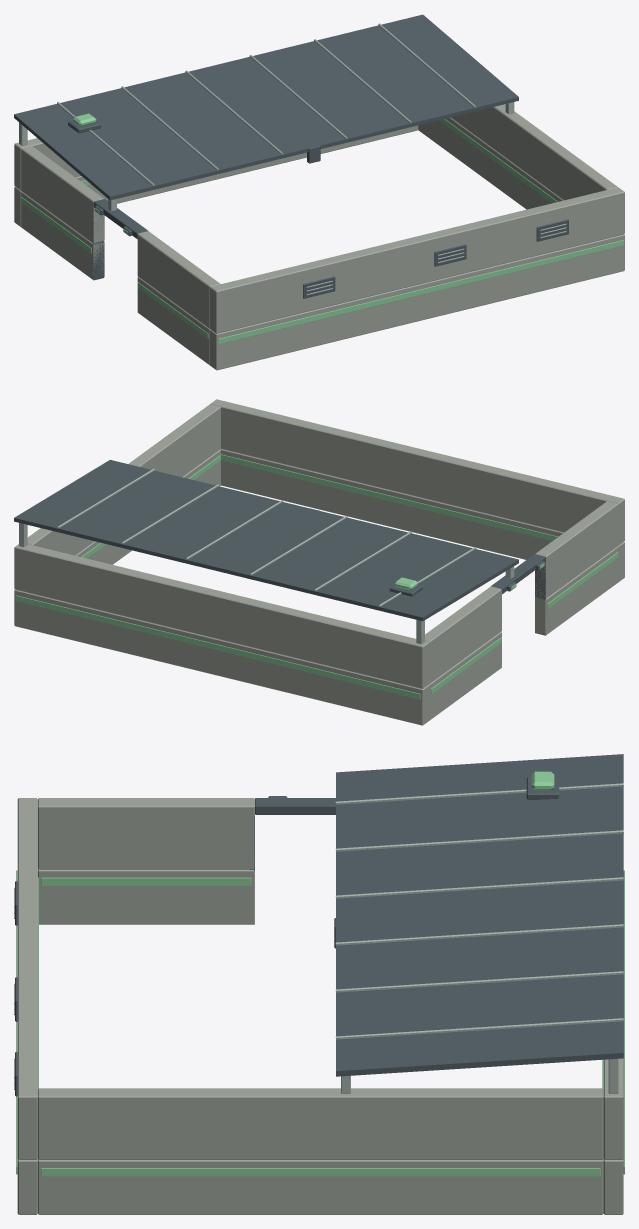
The model's file is safehouse_b.glb.
The picture shows the model from 3 angles, top to bottom: view 1: azimuth 30°, elevation 25°; view 2: azimuth 150°, elevation 25°; view 3: azimuth 270°, elevation 25°; orthographic projection. The views are drawn at different scales.
Parts seen in each view (by area): view 1: Occlude_Walls_Mesh, Keep_Mesh; view 2: Occlude_Walls_Mesh, Keep_Mesh; view 3: Occlude_Walls_Mesh, Keep_Mesh.
Part boxes in pixels (x1,y1,x2,y2): Occlude_Walls_Mesh: (14,14,624,333); Keep_Mesh: (14,117,624,370); Occlude_Walls_Mesh: (14,399,624,688); Keep_Mesh: (14,449,624,725); Occlude_Walls_Mesh: (14,754,623,1159); Keep_Mesh: (16,869,624,1214).
Bounding box in the file's own units: 14.16 × 3.75 × 12.1.
